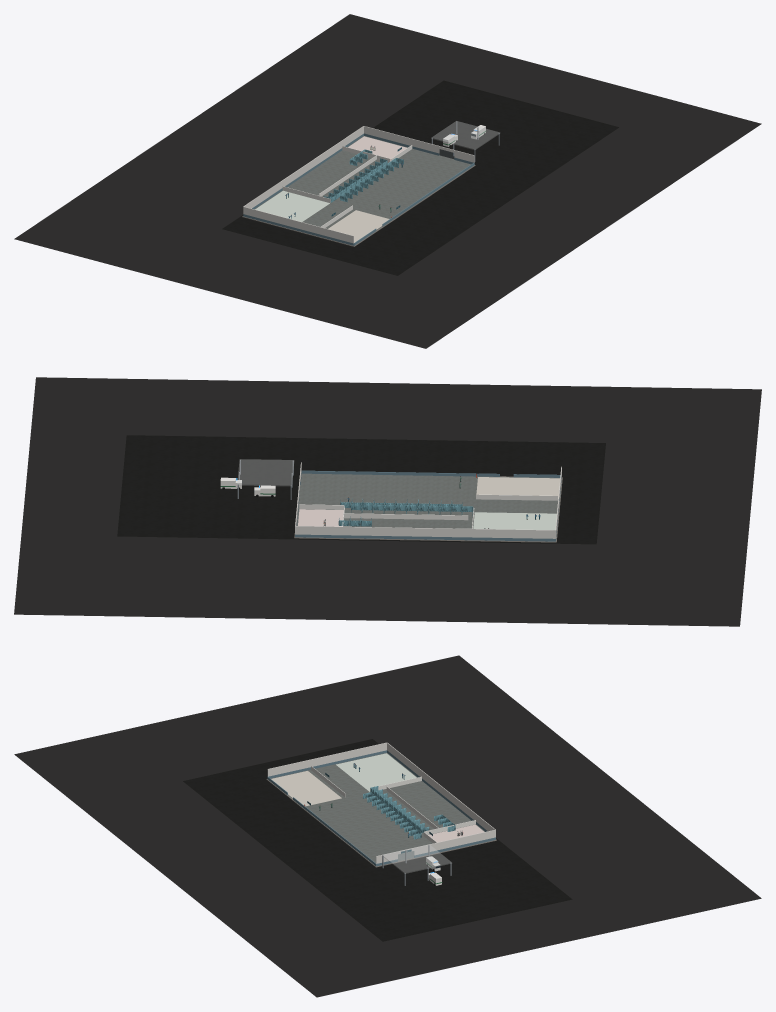
File: ed-inside.glb
3 views of the same model, one above another, from view 1: azimuth 30°, elevation 25°; view 2: azimuth 150°, elevation 25°; view 3: azimuth 270°, elevation 25° (orthographic). The views are drawn at different scales.
Visible parts, largest first — view 1: MeshStandardMaterial 1, MeshStandardMaterial 2, MeshStandardMaterial 3, MeshStandardMaterial 8, m_opaque__fabric__cotton_blue_o01 18, MeshStandardMaterial 9, MeshStandardMaterial 6, MeshStandardMaterial 17, MeshStandardMaterial 5, MeshStandardMaterial 11, MeshStandardMaterial 7; view 2: MeshStandardMaterial 1, MeshStandardMaterial 2, MeshStandardMaterial 3, MeshStandardMaterial 8, MeshStandardMaterial 9, MeshStandardMaterial 5, MeshStandardMaterial 11, MeshStandardMaterial 17, MeshStandardMaterial 6, m_opaque__fabric__cotton_blue_o01 18, MeshStandardMaterial 7, MeshStandardMaterial 4; view 3: MeshStandardMaterial 1, MeshStandardMaterial 2, MeshStandardMaterial 3, MeshStandardMaterial 8, MeshStandardMaterial 6, m_opaque__fabric__cotton_blue_o01 18, MeshStandardMaterial 9, MeshStandardMaterial 5, MeshStandardMaterial 17, MeshStandardMaterial 11.
Part boxes in pixels (bbox=[...]): MeshStandardMaterial 1: bbox=[14, 14, 761, 348]; MeshStandardMaterial 2: bbox=[222, 80, 618, 275]; MeshStandardMaterial 3: bbox=[254, 136, 470, 230]; MeshStandardMaterial 8: bbox=[243, 126, 474, 243]; m_opaque__fabric__cotton_blue_o01 18: bbox=[323, 149, 403, 202]; MeshStandardMaterial 9: bbox=[243, 133, 474, 245]; MeshStandardMaterial 6: bbox=[255, 190, 329, 221]; MeshStandardMaterial 17: bbox=[431, 121, 499, 149]; MeshStandardMaterial 5: bbox=[328, 210, 389, 242]; MeshStandardMaterial 11: bbox=[282, 145, 412, 227]; MeshStandardMaterial 7: bbox=[348, 136, 406, 161]; MeshStandardMaterial 1: bbox=[14, 377, 761, 626]; MeshStandardMaterial 2: bbox=[117, 435, 605, 544]; MeshStandardMaterial 3: bbox=[297, 473, 559, 528]; MeshStandardMaterial 8: bbox=[295, 462, 561, 538]; MeshStandardMaterial 9: bbox=[295, 470, 561, 541]; MeshStandardMaterial 5: bbox=[476, 477, 560, 498]; MeshStandardMaterial 11: bbox=[299, 494, 557, 528]; MeshStandardMaterial 17: bbox=[237, 459, 293, 485]; MeshStandardMaterial 6: bbox=[473, 512, 556, 530]; m_opaque__fabric__cotton_blue_o01 18: bbox=[338, 498, 473, 526]; MeshStandardMaterial 7: bbox=[298, 509, 343, 526]; MeshStandardMaterial 4: bbox=[294, 476, 562, 542]; MeshStandardMaterial 1: bbox=[14, 655, 761, 997]; MeshStandardMaterial 2: bbox=[183, 739, 572, 941]; MeshStandardMaterial 3: bbox=[271, 753, 484, 862]; MeshStandardMaterial 8: bbox=[267, 742, 495, 863]; MeshStandardMaterial 6: bbox=[336, 753, 416, 791]; m_opaque__fabric__cotton_blue_o01 18: bbox=[363, 786, 455, 839]; MeshStandardMaterial 9: bbox=[267, 750, 495, 866]; MeshStandardMaterial 5: bbox=[271, 771, 341, 806]; MeshStandardMaterial 17: bbox=[382, 844, 451, 873]; MeshStandardMaterial 11: bbox=[311, 766, 475, 843].
Bounding box in the file's own units: 264 × 5.08 × 244.
Materials: 141 (18 with a texture image).
